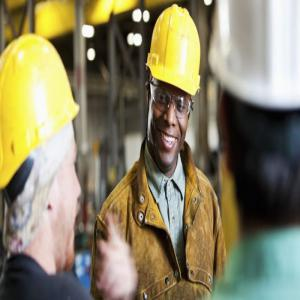white: (212, 8, 300, 240)
yellow: (3, 37, 80, 270), (144, 4, 201, 165)
